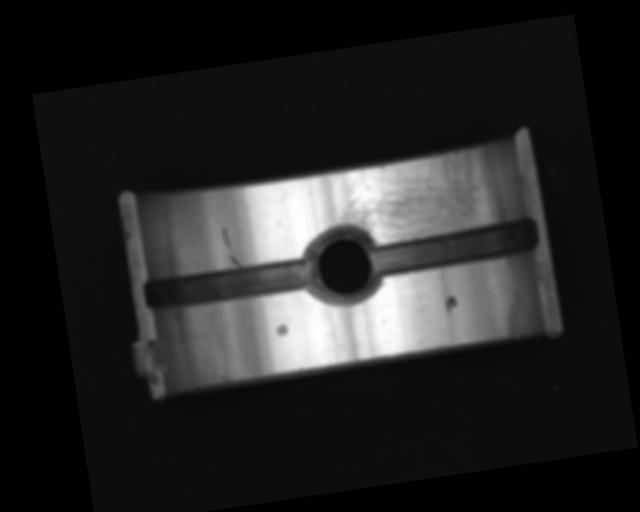blot: (444, 294, 457, 314)
bruise: (275, 323, 289, 338)
gap: (140, 254, 316, 314), (368, 217, 541, 278)
hole: (300, 220, 385, 310)
nick: (221, 226, 241, 272)
scratch: (328, 146, 494, 252)
